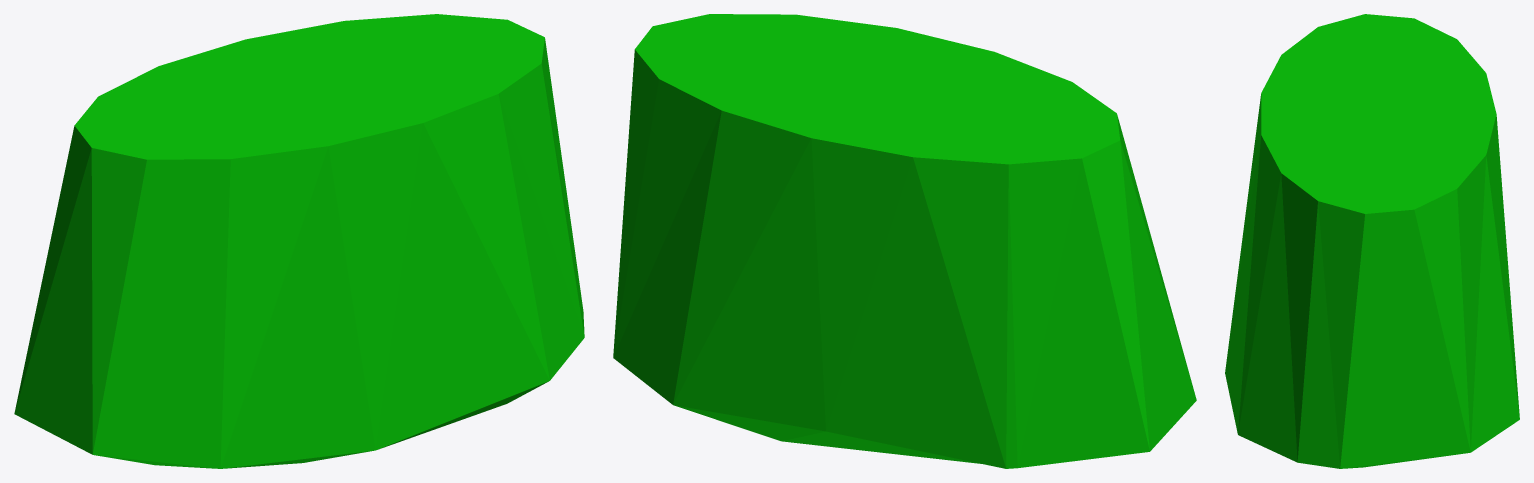
The model's file is talos_lleg_rom_reduced.dae.
The picture shows the model from 3 angles, left to right: view 1: azimuth 30°, elevation 25°; view 2: azimuth 150°, elevation 25°; view 3: azimuth 270°, elevation 25°; orthographic projection. The views are drawn at different scales.
Visible parts, largest first — view 1: Circle; view 2: Circle; view 3: Circle.
Part boxes in pixels (x1=…): Circle: x1=14, y1=14, x2=584, y2=468; Circle: x1=613, y1=14, x2=1196, y2=468; Circle: x1=1225, y1=14, x2=1519, y2=468.
Bounding box in the file's own units: 0.6991 × 0.3718 × 0.4096.
